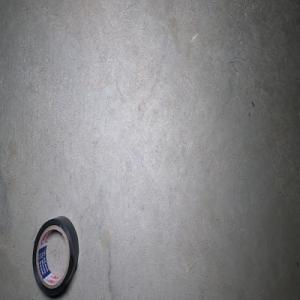Tape: (32, 215, 79, 298)
